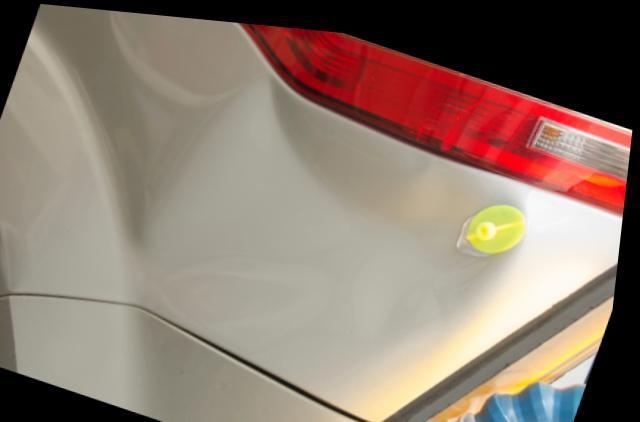dent: (153, 71, 529, 385)
